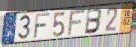2: (104, 6, 119, 33)
3: (17, 13, 33, 42)
5: (52, 10, 68, 38)
B: (84, 7, 104, 35)
F: (66, 8, 87, 37), (32, 13, 51, 40)
